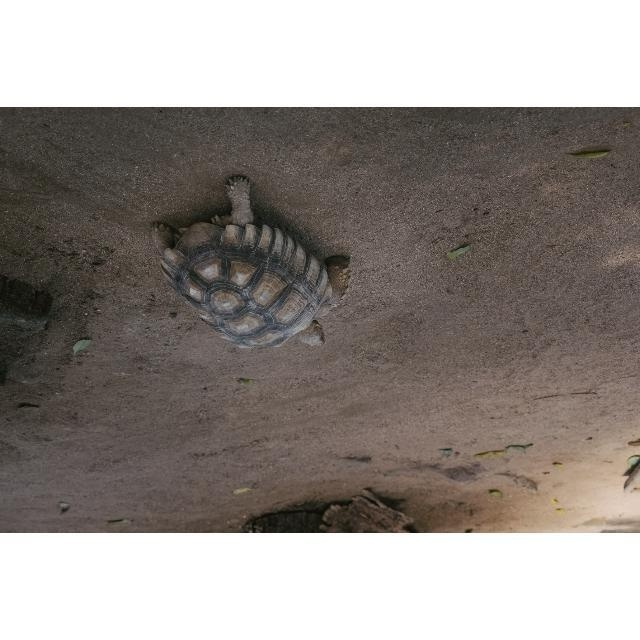turtle: (151, 175, 353, 351)
